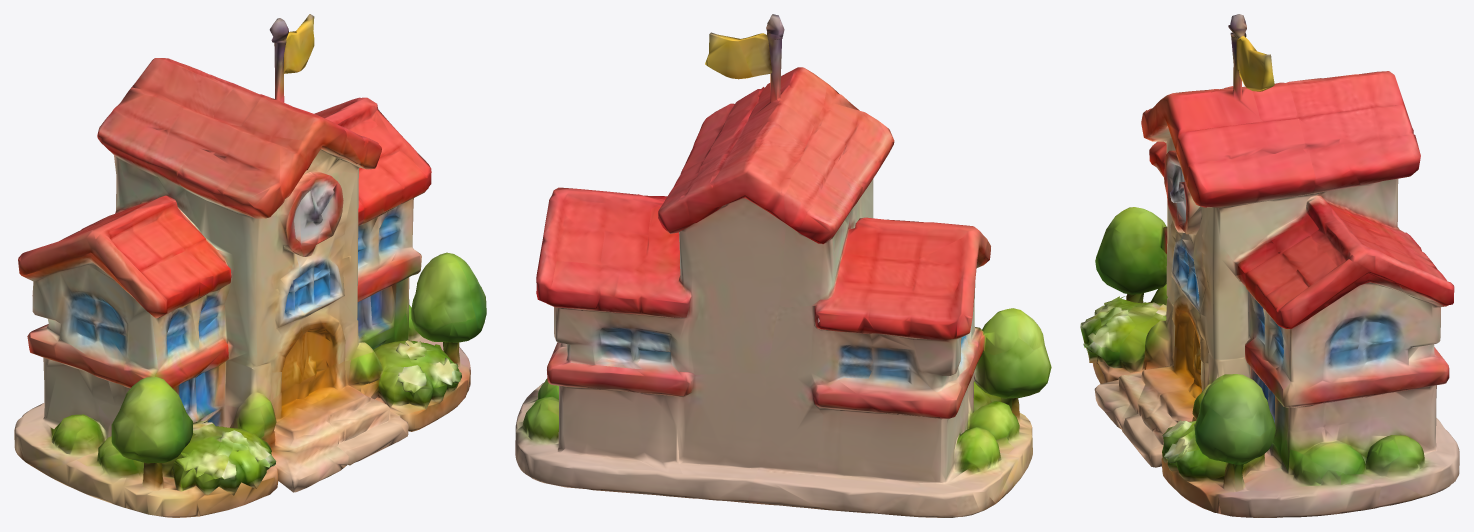
The model's file is pl_school.glb.
The picture shows the model from 3 angles, left to right: view 1: azimuth 30°, elevation 25°; view 2: azimuth 150°, elevation 25°; view 3: azimuth 270°, elevation 25°; orthographic projection. The views are drawn at different scales.
Bounding box in the file's own units: 1 × 0.8936 × 0.7421.
1 material, 1 textured.
